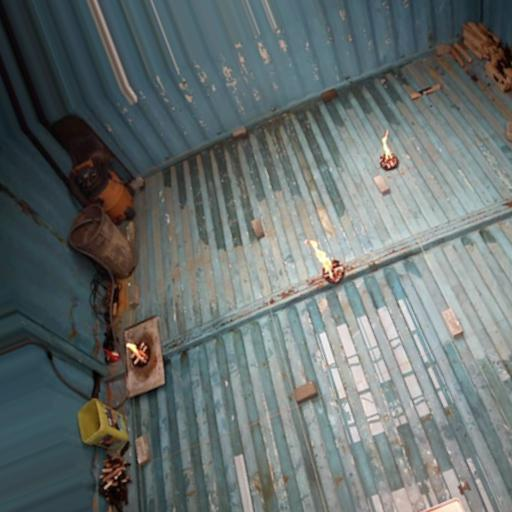Fire: (309, 240, 334, 273), (380, 131, 393, 158), (126, 342, 140, 355)
